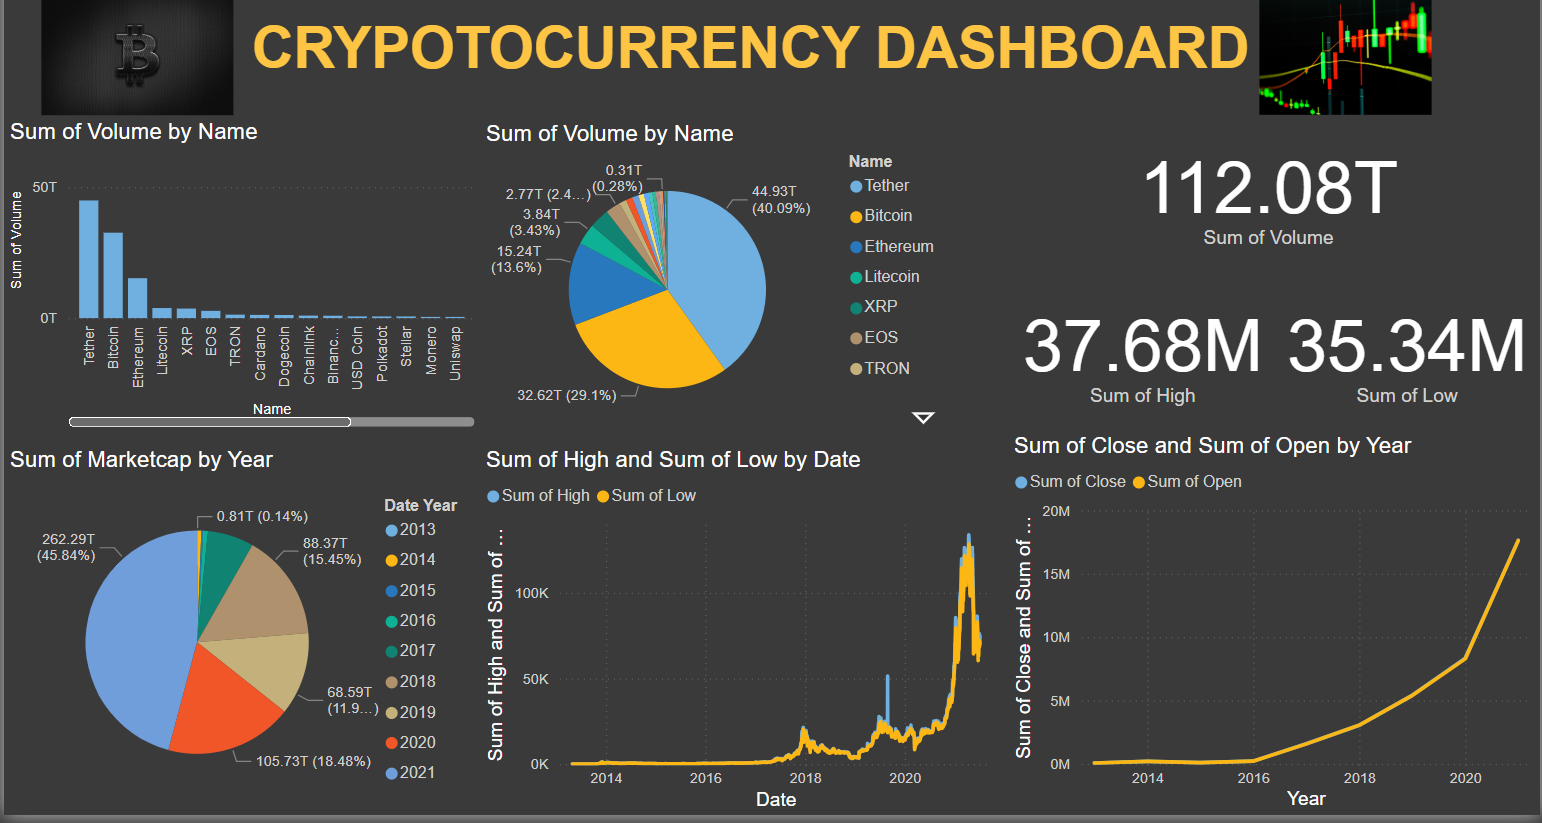

This screenshot's page, from the dashboard's own definition file:
{"tool":"powerbi","page":{"name":"Page 1","canvas":[1280,720],"ordinal":0},"visuals":[{"type":"card","fields":{"Values":["Sum(coin data.High)"]},"box":[838.6,262.9,221.4,138.6],"z":0},{"type":"card","fields":{"Values":["Sum(coin data.Low)"]},"box":[1054.3,262.9,228.6,138.6],"z":1000},{"type":"pieChart","fields":{"Category":["coin data.Date.Variation.Date Hierarchy.Year","coin data.Date.Variation.Date Hierarchy.Quarter","coin data.Date.Variation.Date Hierarchy.Month","coin data.Date.Variation.Date Hierarchy.Day"],"Y":["Sum(coin data.Marketcap)"]},"box":[0,412.9,402.9,304.3],"z":2000},{"type":"card","fields":{"Values":["Sum(coin data.Volume)"]},"box":[837.1,140,434.3,122.9],"z":3000},{"type":"lineChart","fields":{"Category":["coin data.Date"],"Y":["Sum(coin data.High)","Sum(coin data.Low)"]},"box":[397.1,412.9,435.7,307.1],"z":4000},{"type":"lineChart","fields":{"Category":["coin data.Date.Variation.Date Hierarchy.Year"],"Y":["Sum(coin data.Close)","Sum(coin data.Open)"]},"box":[837.1,401.4,444.3,318.6],"z":5000},{"type":"lineStackedColumnComboChart","fields":{"Category":["coin data.Name"],"Y":["Sum(coin data.Volume)"]},"box":[0,140,397.1,261.4],"z":6000},{"type":"pieChart","fields":{"Y":["Sum(coin data.Volume)"],"Category":["coin data.Name"]},"box":[397.1,141.4,434.3,260],"z":7000},{"type":"textbox","box":[100,48.6,1044.3,77.1],"z":8000},{"type":"image","box":[21.4,32.9,178.6,108.6],"z":9000},{"type":"image","box":[957.1,30,322.9,111.4],"z":10000}]}

Visuals, with their boxes on the page's 1280x720 design canvas (x1, y1, x2, y2). These are canvas units, not pixel positions in the 1542x823 screenshot, which may show the page scaled, cropped or inside an application window:
card - Sum(coin data.High): region(839, 263, 1060, 402)
card - Sum(coin data.Low): region(1054, 263, 1283, 402)
pieChart - coin data.Date.Variation.Date Hierarchy.Year x coin data.Date.Variation.Date Hierarchy.Quarter: region(0, 413, 403, 717)
card - Sum(coin data.Volume): region(837, 140, 1271, 263)
lineChart - coin data.Date x Sum(coin data.High): region(397, 413, 833, 720)
lineChart - coin data.Date.Variation.Date Hierarchy.Year x Sum(coin data.Close): region(837, 401, 1281, 720)
lineStackedColumnComboChart - coin data.Name x Sum(coin data.Volume): region(0, 140, 397, 401)
pieChart - Sum(coin data.Volume) x coin data.Name: region(397, 141, 831, 401)
textbox: region(100, 49, 1144, 126)
image: region(21, 33, 200, 142)
image: region(957, 30, 1280, 141)
